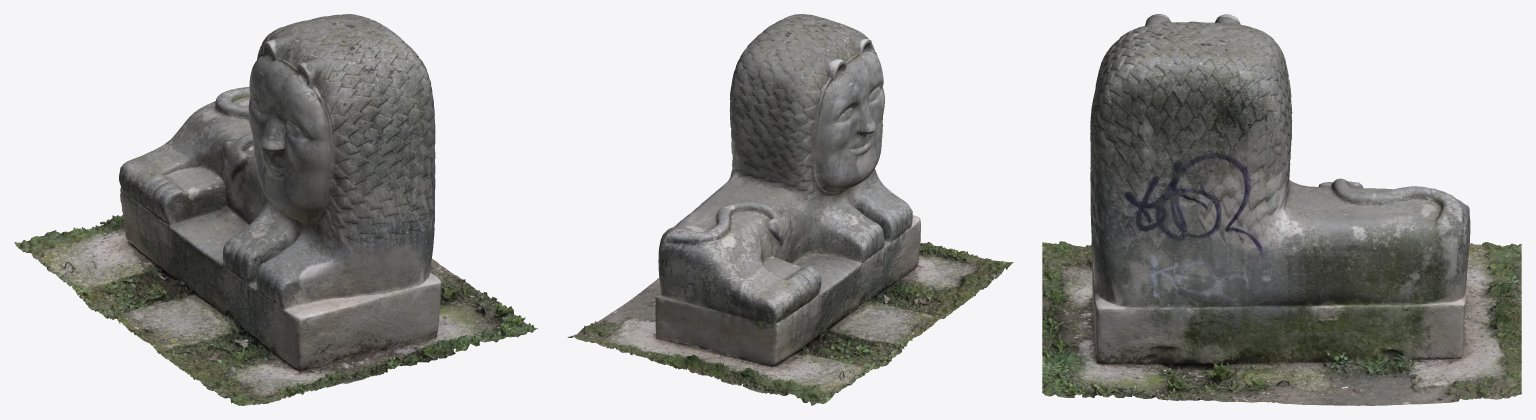
The model's file is lion_statue.glb.
3 renders of one model, left to right at view 1: azimuth 30°, elevation 25°; view 2: azimuth 150°, elevation 25°; view 3: azimuth 270°, elevation 25°, orthographic. The views are drawn at different scales.
Parts seen in each view (by area): view 1: lvicek; view 2: lvicek; view 3: lvicek.
Boxes of the visible parts, x1,y1,x2,y2 form: lvicek: (14,14,537,405); lvicek: (567,14,1013,405); lvicek: (1042,14,1521,405).
Size of the model in its own units: 1.91 by 1.8 by 2.48.
Materials: 1 (1 with a texture image).
